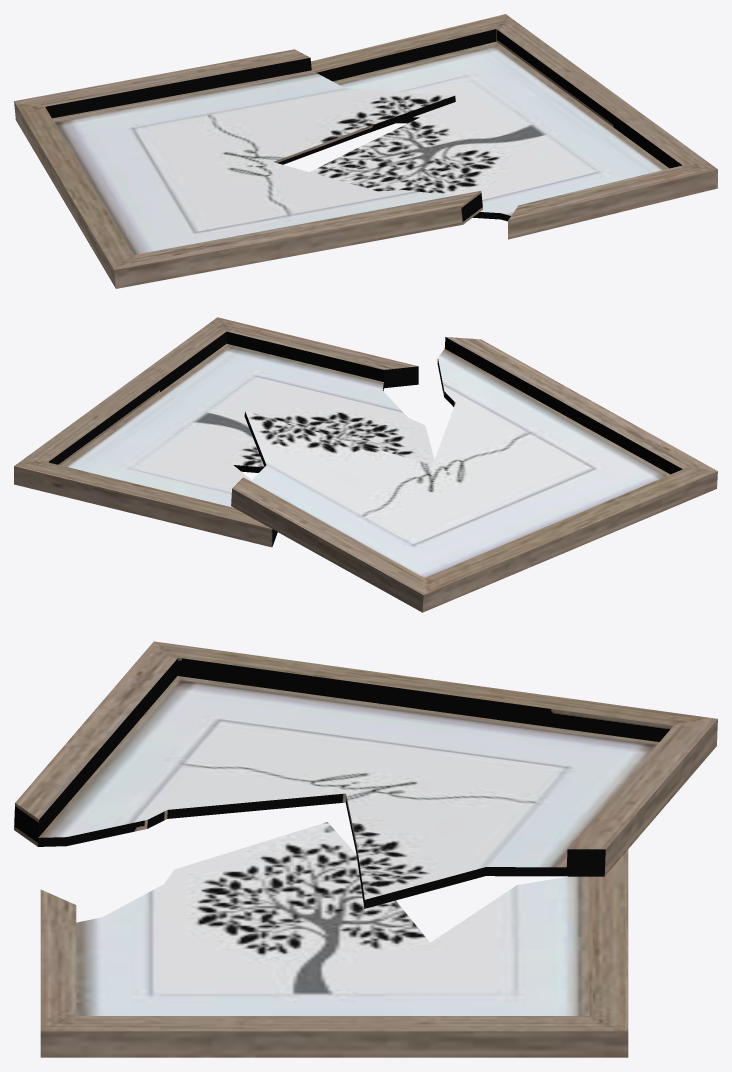
File: cadrecasse.fbx
3 renders of one model, top to bottom at view 1: azimuth 30°, elevation 25°; view 2: azimuth 150°, elevation 25°; view 3: azimuth 270°, elevation 25°, orthographic. The views are drawn at different scales.
Visible parts, largest first — view 1: bout2, bout1; view 2: bout2, bout1; view 3: bout2, bout1.
Part boxes in pixels (box(x1,y1,x2,y2)): bout2: box(14, 49, 482, 288); bout1: box(310, 14, 717, 239); bout2: box(231, 337, 717, 612); bout1: box(14, 317, 434, 547); bout2: box(14, 641, 717, 908); bout1: box(40, 822, 628, 1057).
Size of the model in its own units: 306 by 29.09 by 239.
2 materials, 1 textured.
